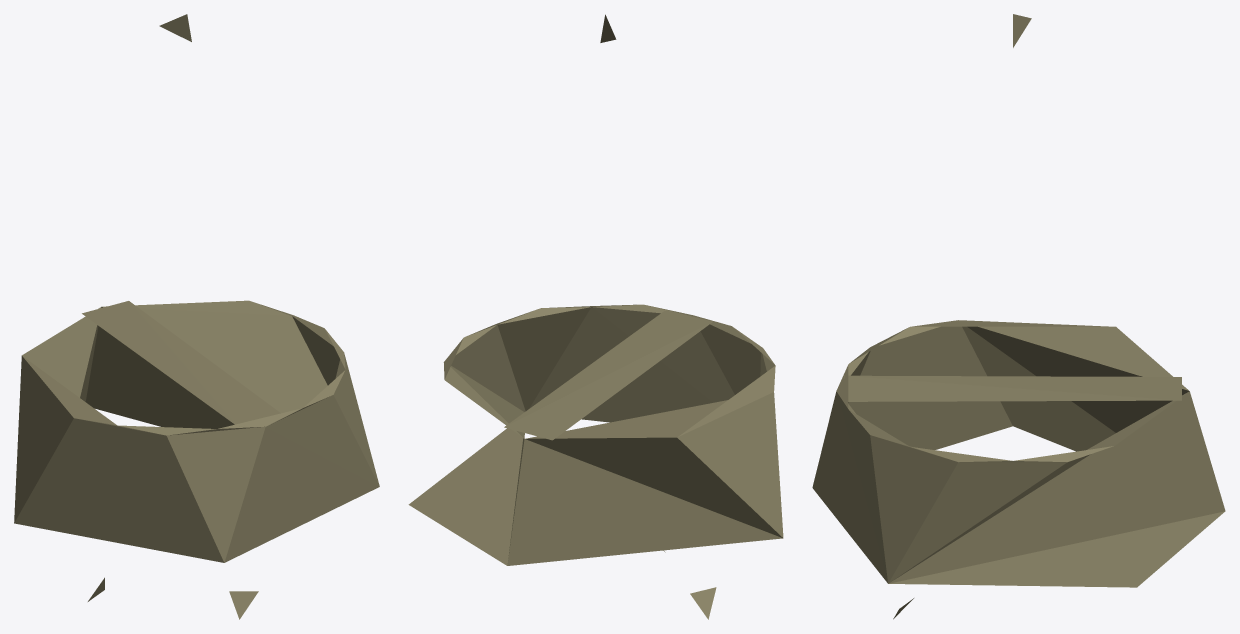
File: chandelier.lod2.glb
The picture shows the model from 3 angles, left to right: view 1: azimuth 30°, elevation 25°; view 2: azimuth 150°, elevation 25°; view 3: azimuth 270°, elevation 25°; orthographic projection. The views are drawn at different scales.
Visible parts, largest first — view 1: Object_2; view 2: Object_2; view 3: Object_2.
Part boxes in pixels (box(x1,y1,x2,y2)): Object_2: box(14, 14, 379, 619); Object_2: box(408, 14, 783, 619); Object_2: box(812, 14, 1225, 619).
Size of the model in its own units: 0.9034 by 1.57 by 0.9662.
